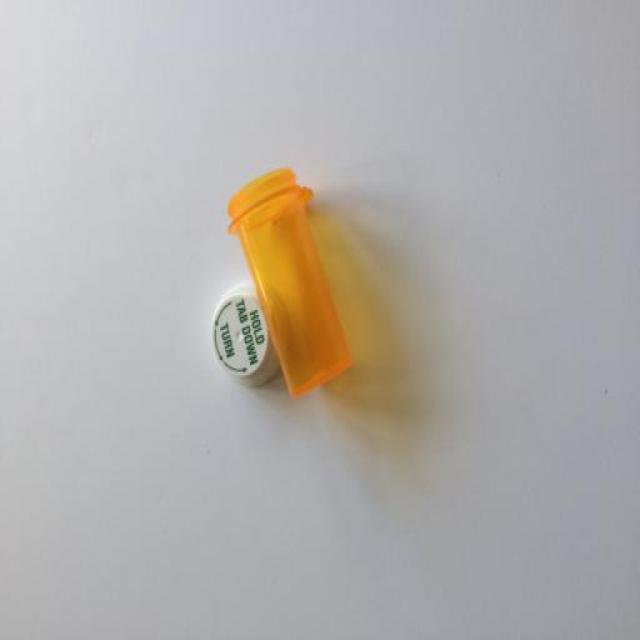Waste: (211, 167, 352, 398)
